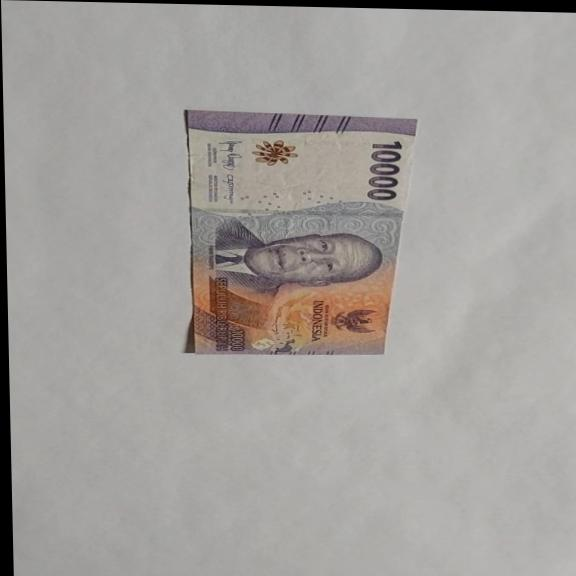Kertas: (181, 109, 425, 360), (364, 139, 405, 202)
